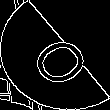O_NE: (17, 23, 93, 87)
